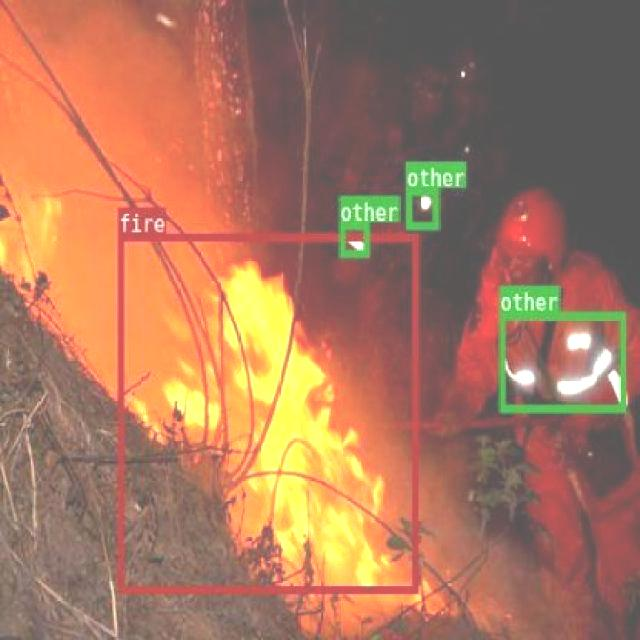fire: (118, 232, 416, 592)
